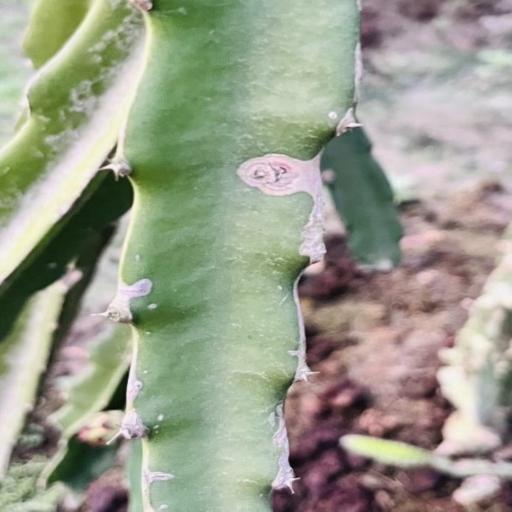stemcanker: (134, 296, 176, 340), (264, 272, 300, 308), (303, 95, 346, 125), (125, 374, 164, 405), (125, 244, 160, 276), (148, 411, 174, 446), (150, 490, 184, 512), (147, 412, 167, 441), (268, 280, 288, 298), (326, 106, 342, 126), (136, 364, 154, 381), (143, 299, 163, 314), (142, 301, 165, 314), (324, 108, 342, 124), (129, 251, 149, 265), (142, 325, 156, 344), (148, 301, 167, 314), (134, 379, 146, 399), (146, 301, 164, 314), (142, 328, 156, 344), (272, 281, 286, 295), (131, 252, 147, 264), (323, 110, 342, 120), (276, 282, 289, 296), (158, 502, 176, 512), (326, 108, 340, 120), (155, 412, 169, 424), (140, 364, 152, 378), (133, 381, 147, 393), (142, 366, 156, 378), (328, 108, 339, 120), (140, 369, 154, 378), (157, 501, 168, 512), (156, 412, 168, 422), (157, 412, 167, 423), (148, 302, 160, 311), (139, 368, 152, 376), (134, 252, 144, 262), (160, 502, 170, 511), (275, 285, 285, 293), (156, 412, 164, 422), (145, 329, 153, 337), (151, 424, 161, 430), (153, 425, 159, 431), (154, 431, 160, 436), (156, 430, 160, 436)
